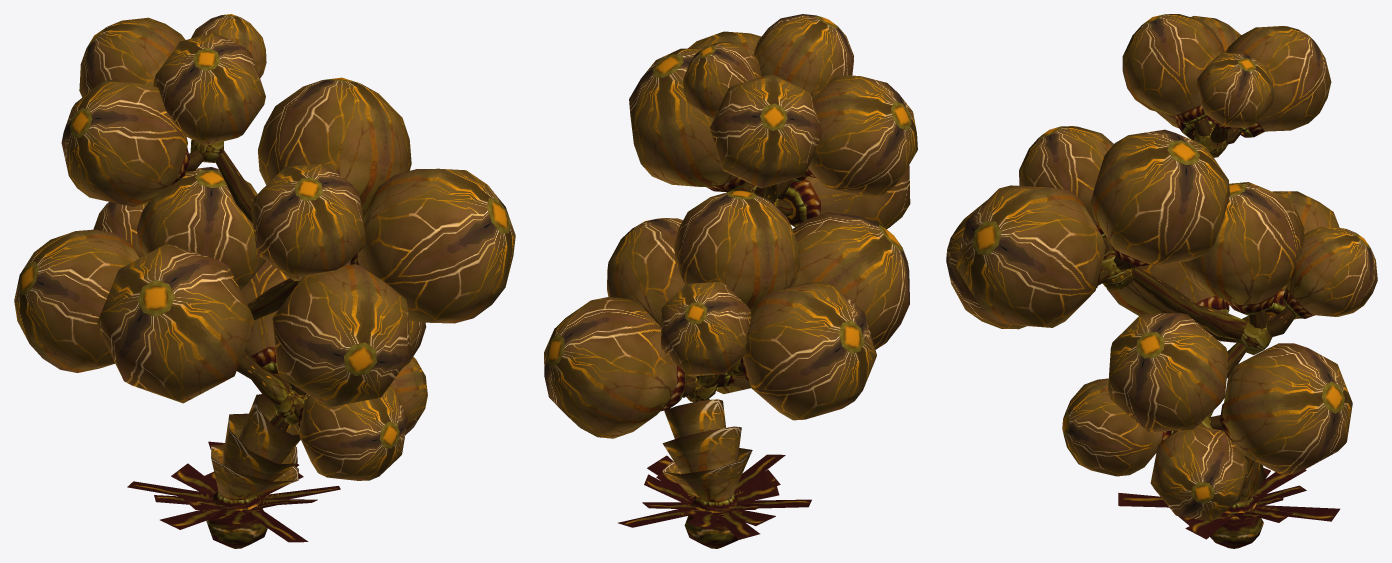
The model's file is Bug_cargo_01_c.fbx.
The picture shows the model from 3 angles, left to right: view 1: azimuth 30°, elevation 25°; view 2: azimuth 150°, elevation 25°; view 3: azimuth 270°, elevation 25°; orthographic projection. The views are drawn at different scales.
Visible parts, largest first — view 1: Bug_cargo_01_c; view 2: Bug_cargo_01_c; view 3: Bug_cargo_01_c.
Boxes of the visible parts, x1,y1,x2,y2 form: Bug_cargo_01_c: [14, 14, 515, 548]; Bug_cargo_01_c: [544, 14, 917, 548]; Bug_cargo_01_c: [946, 14, 1377, 548].
Bounding box in the file's own units: 5.66 × 8.35 × 6.52.
